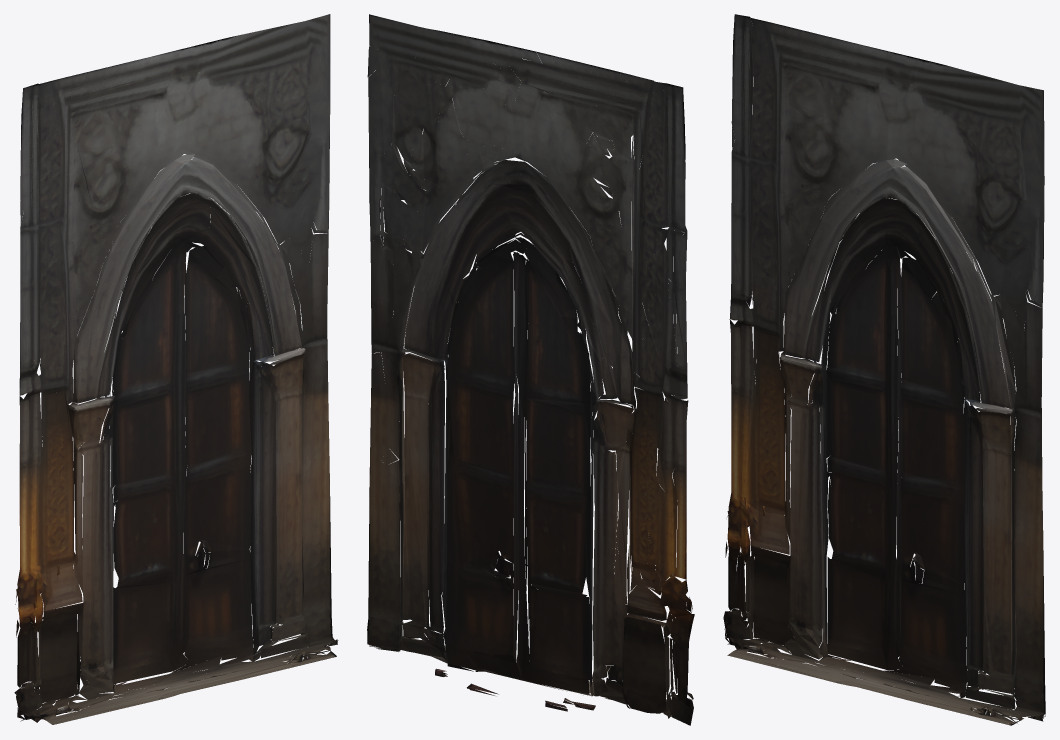
Rendered from puerta_ojival_hd.glb.
3 renders of one model, left to right at view 1: azimuth 30°, elevation 25°; view 2: azimuth 150°, elevation 25°; view 3: azimuth 330°, elevation 25°, orthographic.
Parts seen in each view (by area): view 1: world; view 2: world; view 3: world.
Boxes of the visible parts, x1,y1,x2,y2 form: world: (14, 14, 338, 724); world: (367, 14, 694, 725); world: (723, 14, 1045, 725).
Size of the model in its own units: 3.19 by 5.99 by 0.6.
Materials: 1 (1 with a texture image).
